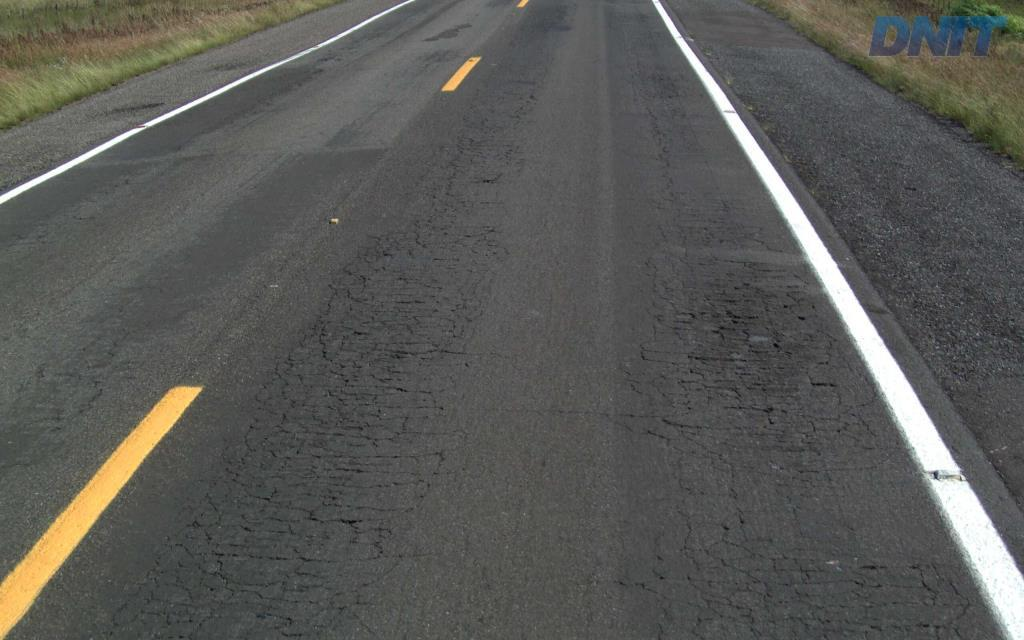crack: (124, 361, 333, 639), (672, 270, 824, 425), (292, 283, 370, 370), (284, 474, 364, 534), (351, 341, 466, 381), (322, 382, 384, 447), (766, 595, 856, 639), (185, 509, 229, 549), (774, 557, 829, 587)
